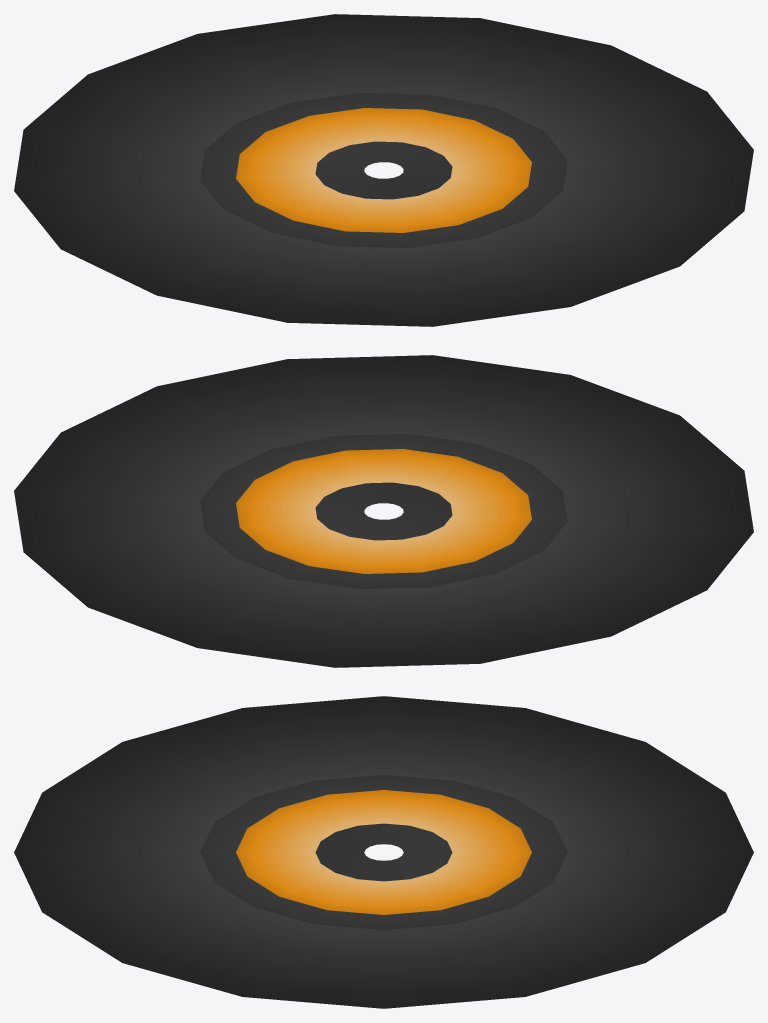
The model's file is Record green.fbx.
3 views of the same model, one above another, from view 1: azimuth 30°, elevation 25°; view 2: azimuth 150°, elevation 25°; view 3: azimuth 270°, elevation 25° (orthographic).
Visible parts, largest first — view 1: Circle.004; view 2: Circle.004; view 3: Circle.004.
Part boxes in pixels (x1=…): Circle.004: x1=14, y1=14, x2=753, y2=326; Circle.004: x1=14, y1=355, x2=753, y2=667; Circle.004: x1=14, y1=696, x2=753, y2=1008.
Size of the model in its own units: 51.66 by 51.66 by 0.
